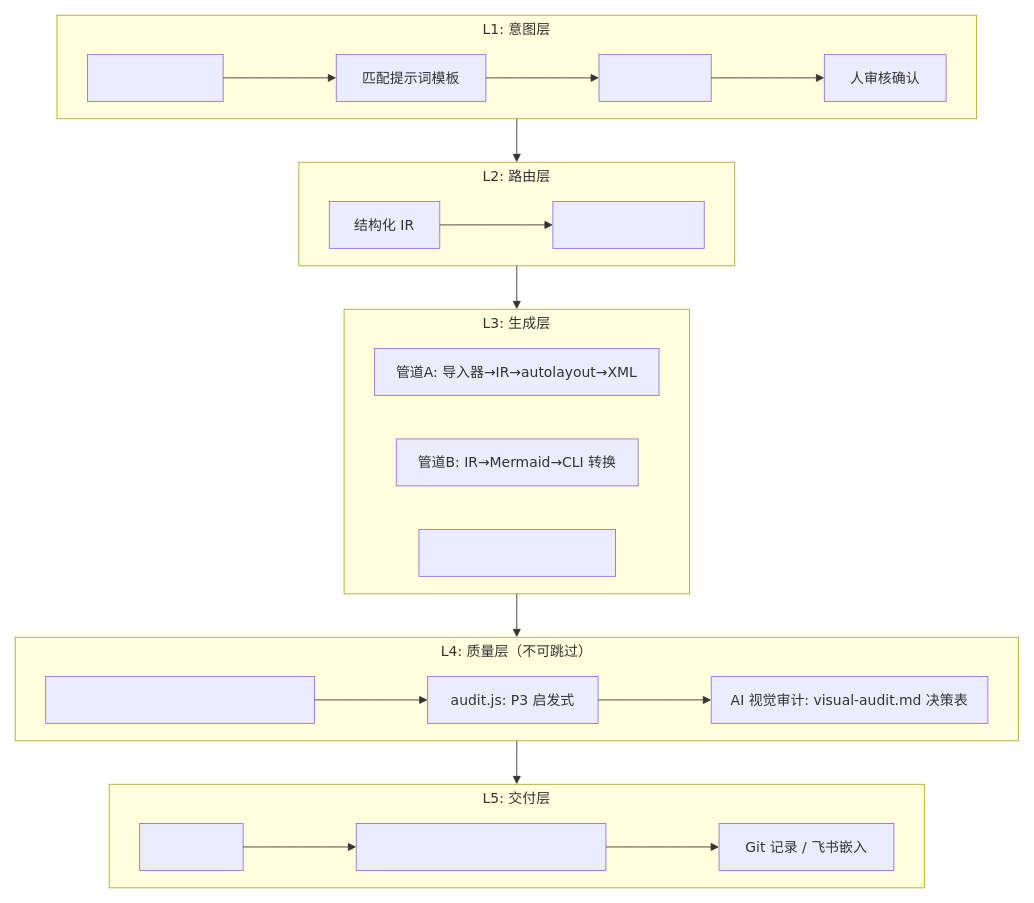
Image size: 1034x903. Some labels were removed from this diagram. Each missing label, with the centre of its shape:
".drawio 源文件 + PNG/SVG/PDF" belongs at (x=480, y=846).
"AI 抽取 IR" belongs at (x=654, y=77).
"CLI 导出" belongs at (x=191, y=846).
"validate.py: P0-P2 结构+几何+空间" belongs at (x=180, y=699).
"判断管道 A/B/C" belongs at (x=628, y=224).
"用户自然语言" belongs at (x=155, y=77).
"管道C: IR→AI 手写 XML" belongs at (x=517, y=552).
